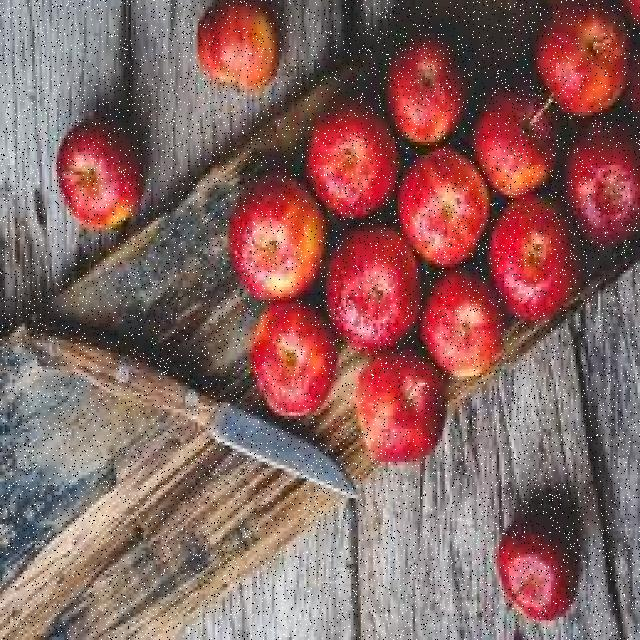Apple: (229, 181, 326, 299), (328, 228, 418, 352), (539, 2, 637, 114), (308, 105, 399, 221), (354, 352, 444, 466), (494, 199, 576, 321), (402, 149, 489, 260), (252, 308, 338, 416), (58, 122, 144, 225), (387, 31, 467, 140), (425, 270, 505, 378), (566, 136, 640, 246), (475, 101, 555, 194), (498, 526, 576, 620), (199, 9, 278, 94)
